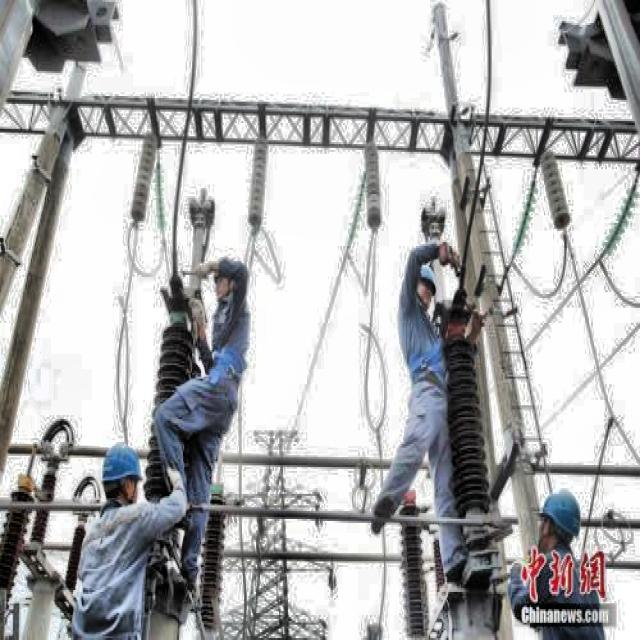helmet: (96, 438, 145, 508), (538, 486, 582, 554), (409, 260, 442, 314)
